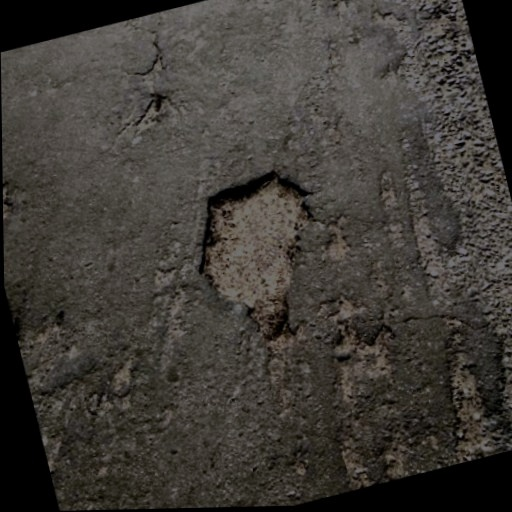pothole: (175, 157, 347, 352), (129, 93, 171, 133), (3, 181, 20, 230)
